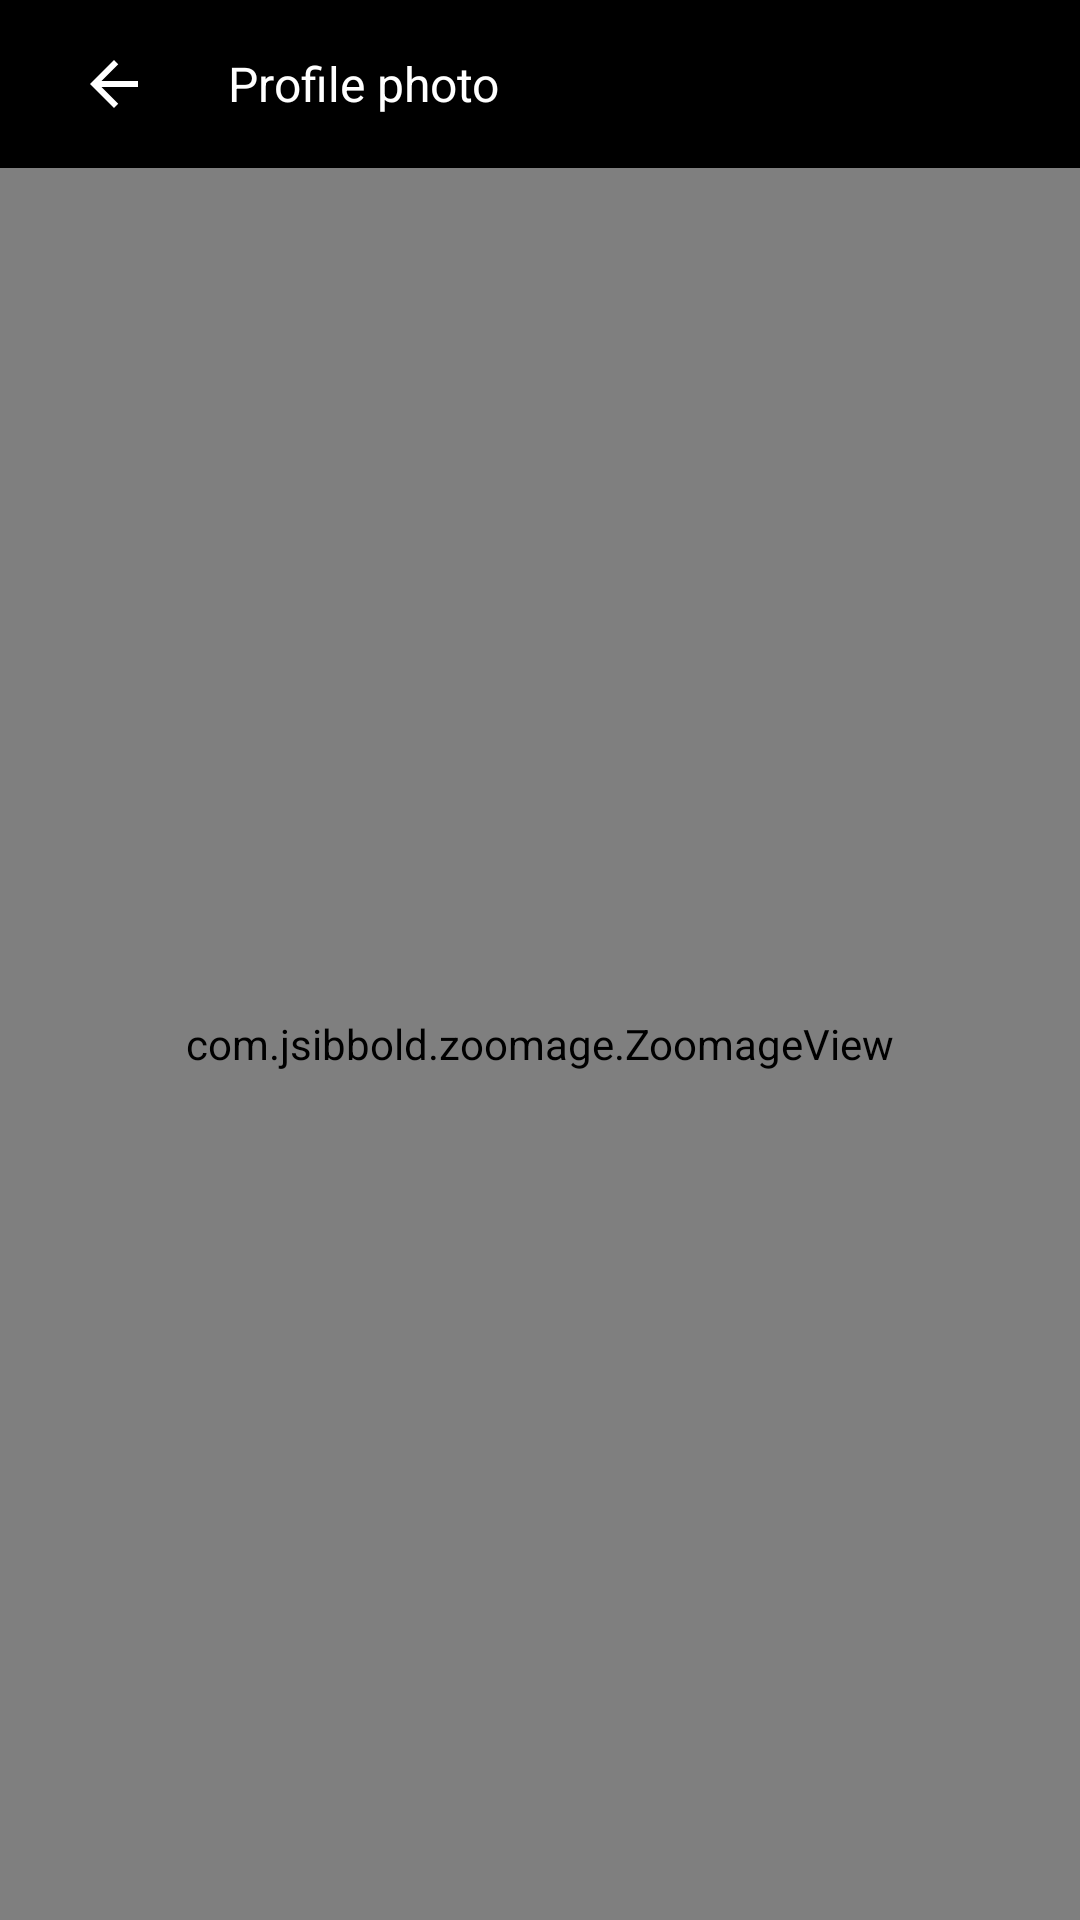

Icon click points for this 1080 x 1920 phone screenshot, format point (x, y):
arrow back: point (114, 84)
